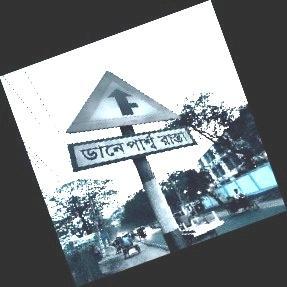Side-road-right: (65, 72, 193, 174)
